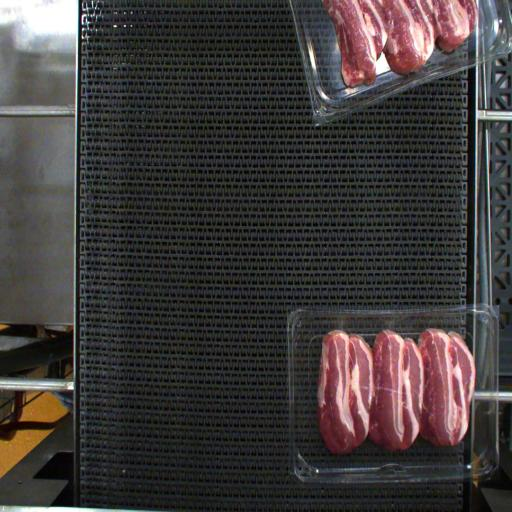packaging-error: (336, 315, 348, 333), (381, 322, 398, 331)
